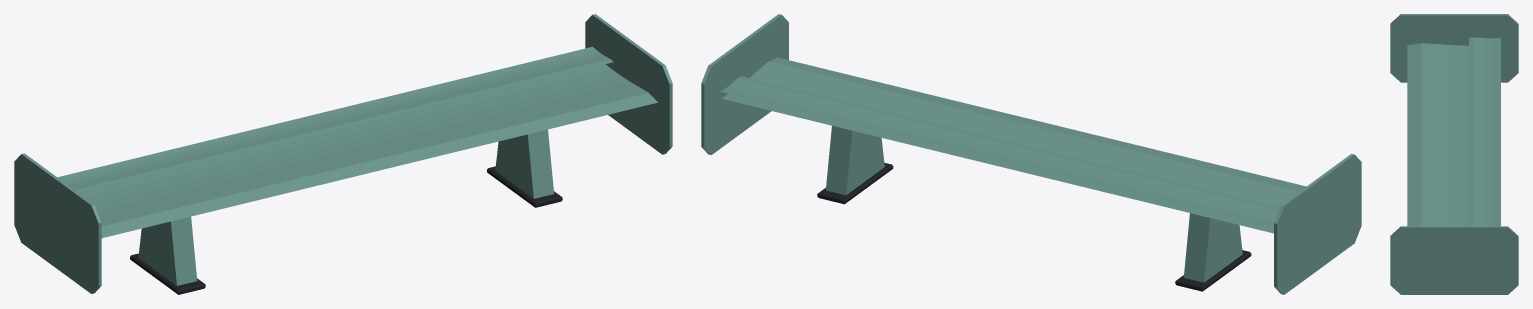
File: strada_evo_rear_wing.glb
The picture shows the model from 3 angles, left to right: view 1: azimuth 30°, elevation 25°; view 2: azimuth 150°, elevation 25°; view 3: azimuth 270°, elevation 25°; orthographic projection. The views are drawn at different scales.
Parts seen in each view (by area): view 1: wing_element, model; view 2: wing_element, model; view 3: wing_element.
Part boxes in pixels (<box>): wing_element: <box>14,14,672,293</box>; model: <box>130,129,562,294</box>; wing_element: <box>701,14,1361,294</box>; model: <box>817,125,1251,291</box>; wing_element: <box>1390,14,1518,294</box>.
Bounding box in the file's own units: 1.42 × 0.2808 × 0.3599.
2 materials, 1 textured.
